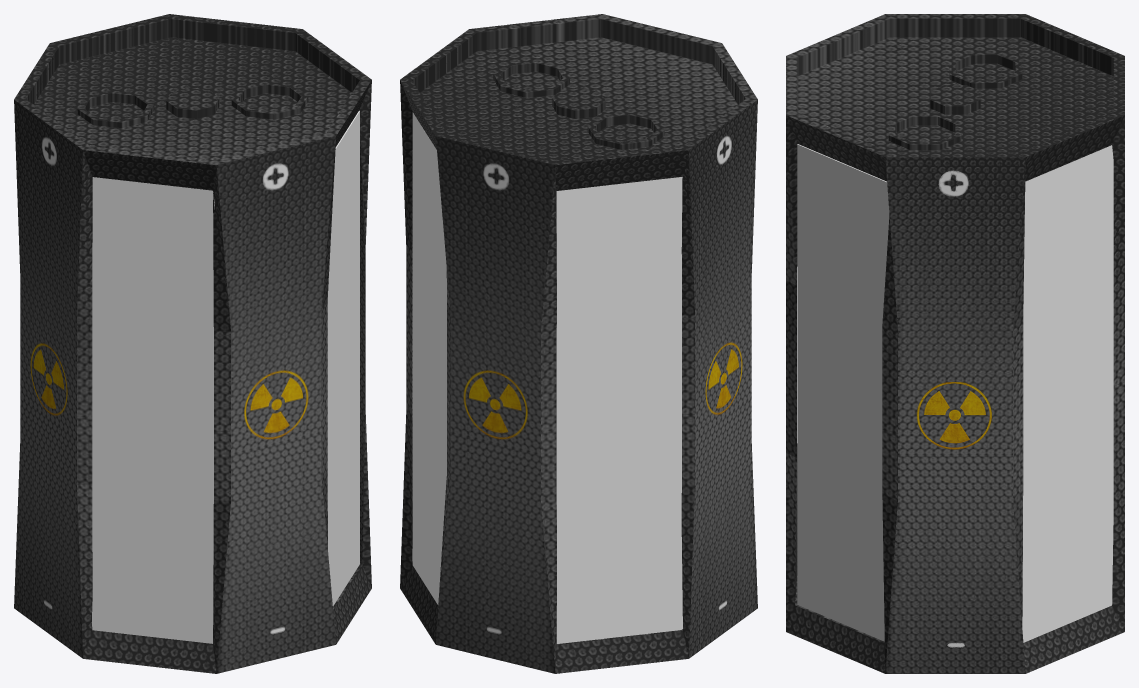
File: object_battery.fbx
3 renders of one model, left to right at view 1: azimuth 30°, elevation 25°; view 2: azimuth 150°, elevation 25°; view 3: azimuth 270°, elevation 25°, orthographic.
Parts seen in each view (by area): view 1: battery_frame, battery_liquid1; view 2: battery_frame, battery_liquid1; view 3: battery_frame, battery_liquid1.
Boxes of the visible parts, bbox=[...] form: battery_frame: bbox=[14, 14, 371, 673]; battery_liquid1: bbox=[91, 110, 359, 643]; battery_frame: bbox=[400, 14, 757, 673]; battery_liquid1: bbox=[412, 112, 682, 643]; battery_frame: bbox=[786, 14, 1124, 673]; battery_liquid1: bbox=[797, 144, 1113, 642].
Bounding box in the file's own units: 0.5943 × 1 × 0.5943.
Materials: 2 (1 with a texture image).
